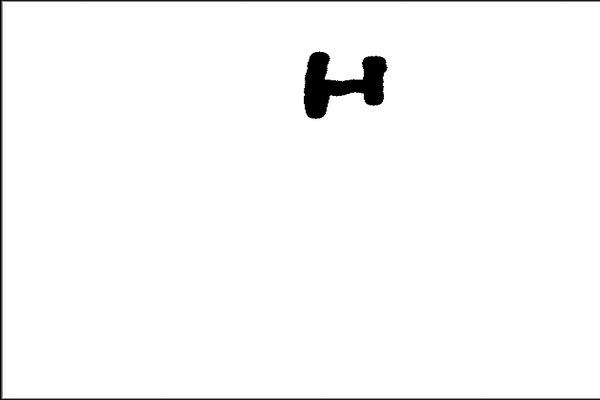H: (300, 42, 396, 123)
